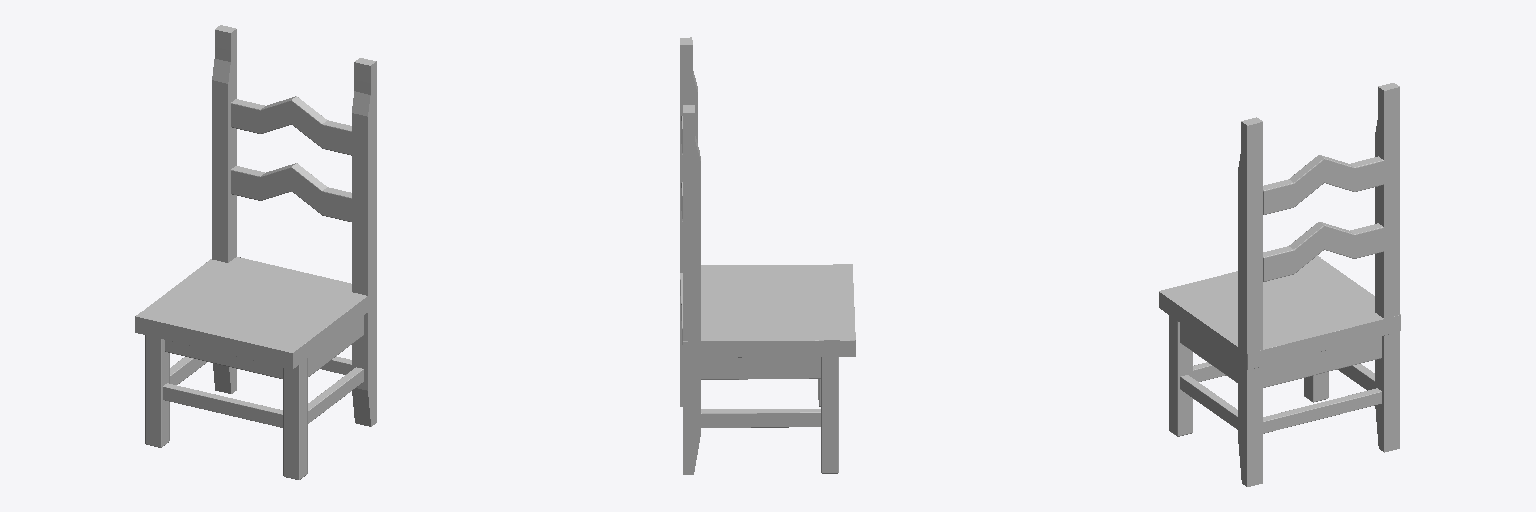
File: chair.obj
3 renders of one model, left to right at view 1: azimuth 30°, elevation 25°; view 2: azimuth 150°, elevation 25°; view 3: azimuth 270°, elevation 25°, orthographic.
Bounding box in the file's own units: 42.69 × 70.82 × 43.05.